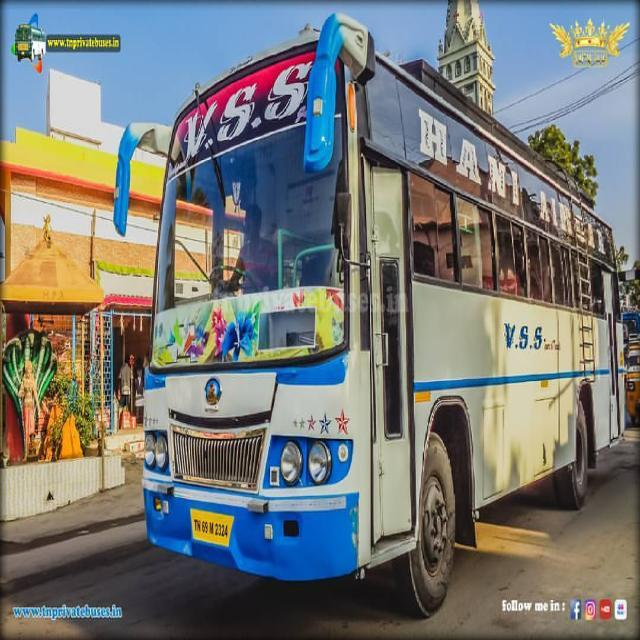Bus: (110, 6, 626, 620)
